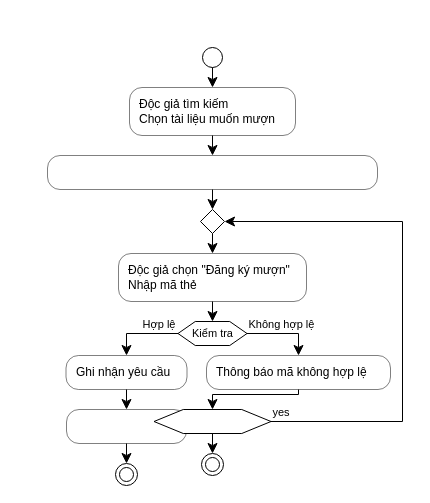
Image size: 430x503. Some labels were removed from this diagram. Here are the shapes that lost their labels. From the top down, the box of each, then its label:
(47, 155, 377, 189): Hệ thống hiển thị thông tin và tình trạng của tài liệu
(66, 409, 186, 443): Mượn thành công
(153, 408, 271, 434): Mã không hợp lệ?
